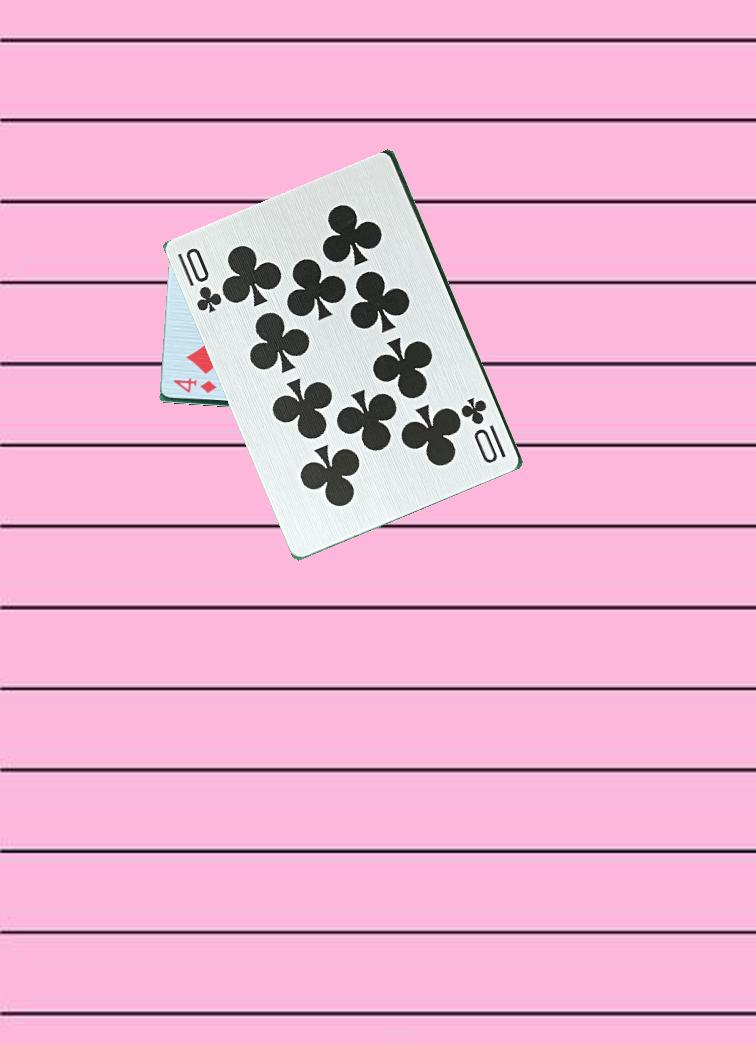4d: (170, 377, 219, 397)
tc: (456, 391, 510, 474), (174, 244, 226, 317)
